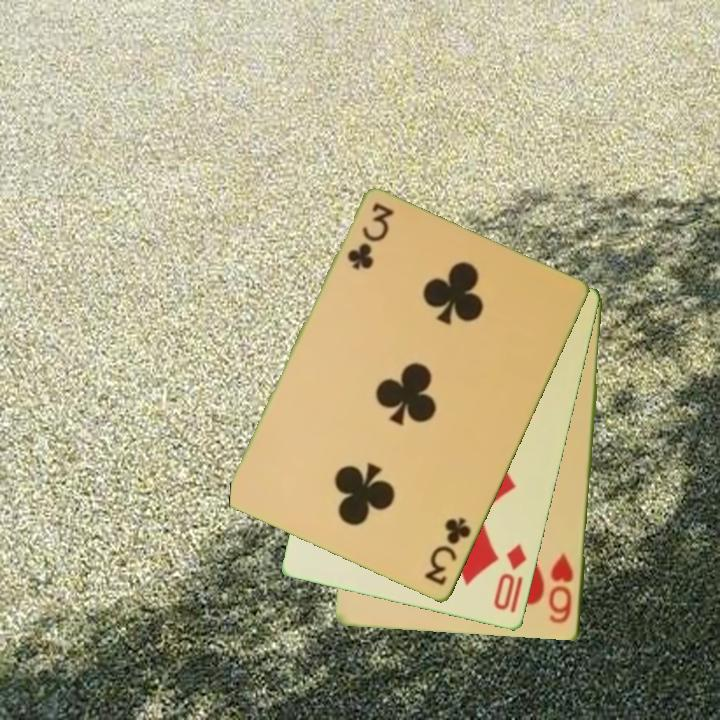10d: (490, 540, 530, 616)
3c: (421, 514, 475, 589), (343, 199, 396, 274)
6h: (545, 550, 577, 627)
